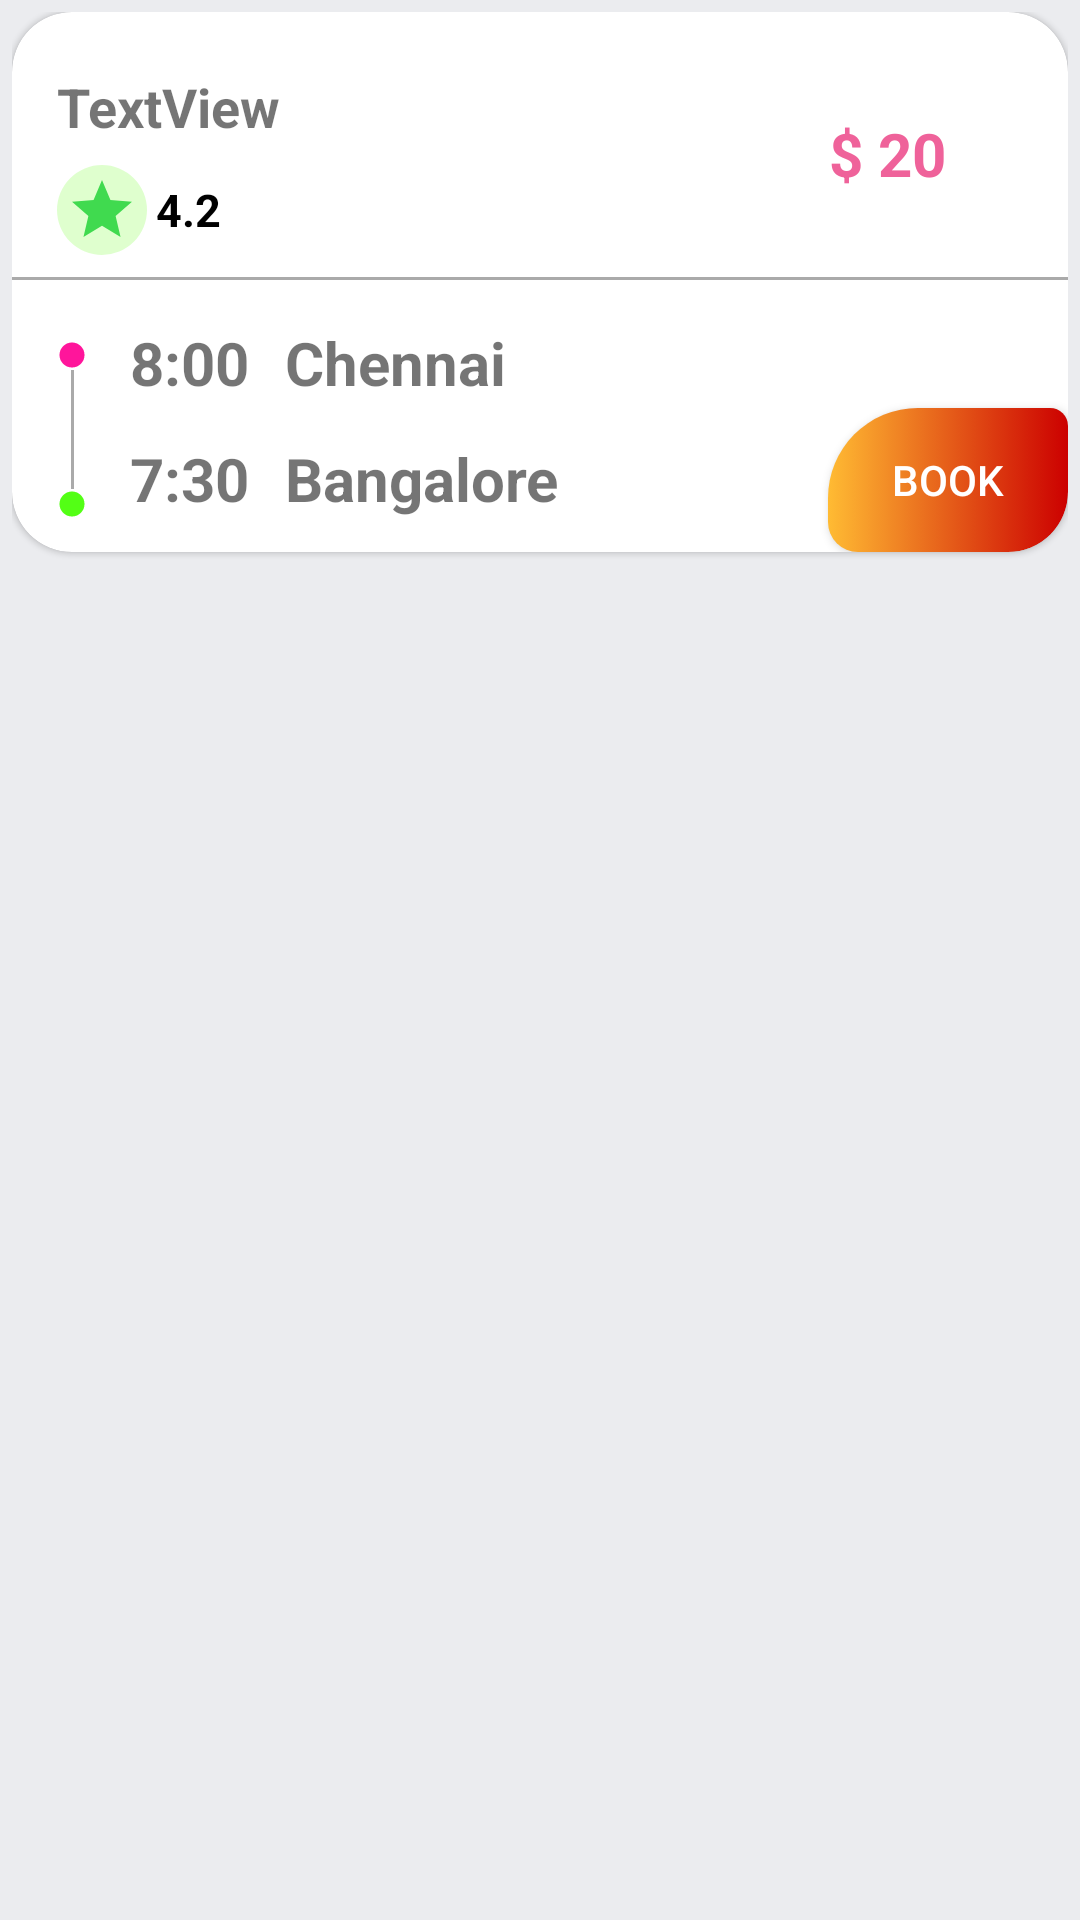

Named icons in this screenshot (1080*1920) and their bounding boxes, bbox=[x1, y1, x2, y2]:
star: bbox=[57, 165, 147, 255]
